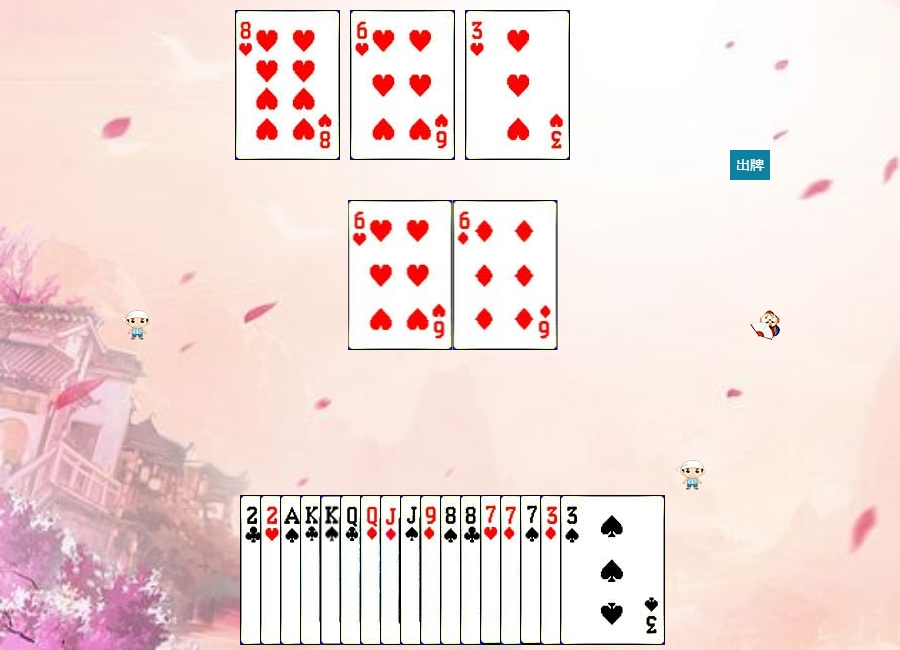11~1: (380, 495, 485, 645)
11~4: (400, 495, 505, 645)
12~1: (360, 495, 465, 645)
12~2: (340, 495, 445, 645)
13~2: (300, 495, 405, 645)
13~4: (320, 495, 425, 645)
14~4: (280, 495, 385, 645)
15~2: (240, 495, 345, 645)
15~3: (260, 495, 365, 645)
3~1: (540, 495, 645, 645)
3~3: (465, 10, 570, 160)
3~4: (560, 495, 665, 645)
6~1: (453, 200, 558, 350)
6~3: (350, 10, 455, 160), (348, 200, 453, 350)
7~1: (500, 495, 605, 645)
7~3: (480, 495, 585, 645)
7~4: (520, 495, 625, 645)
8~2: (460, 495, 565, 645)
8~3: (235, 10, 340, 160)
8~4: (440, 495, 545, 645)
9~1: (420, 495, 525, 645)
